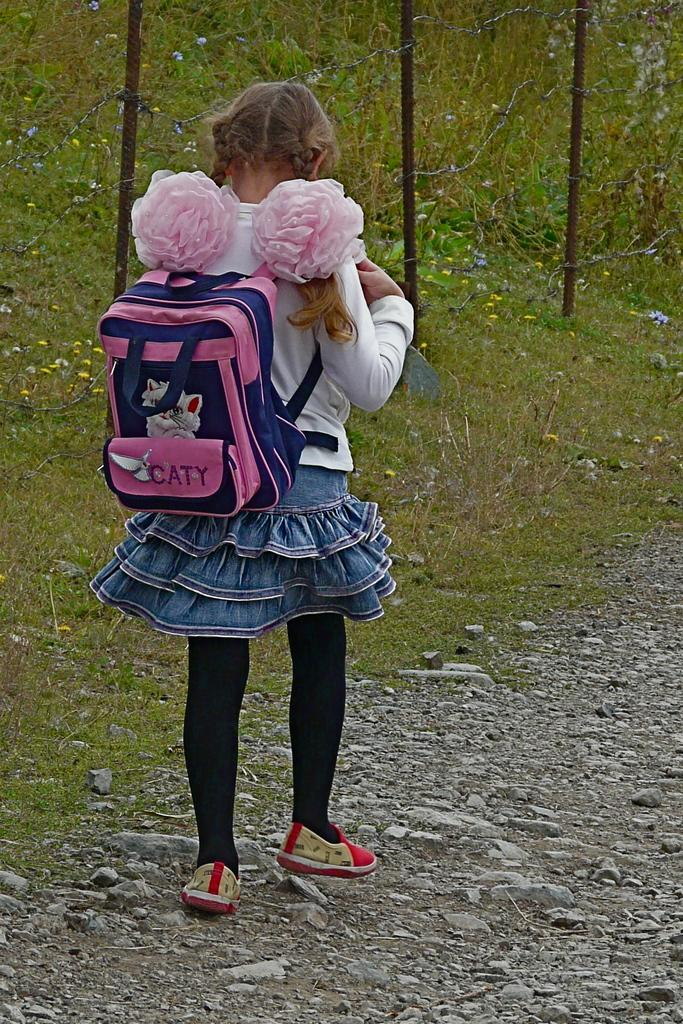Luggage-and-bags: (95, 268, 327, 513)
